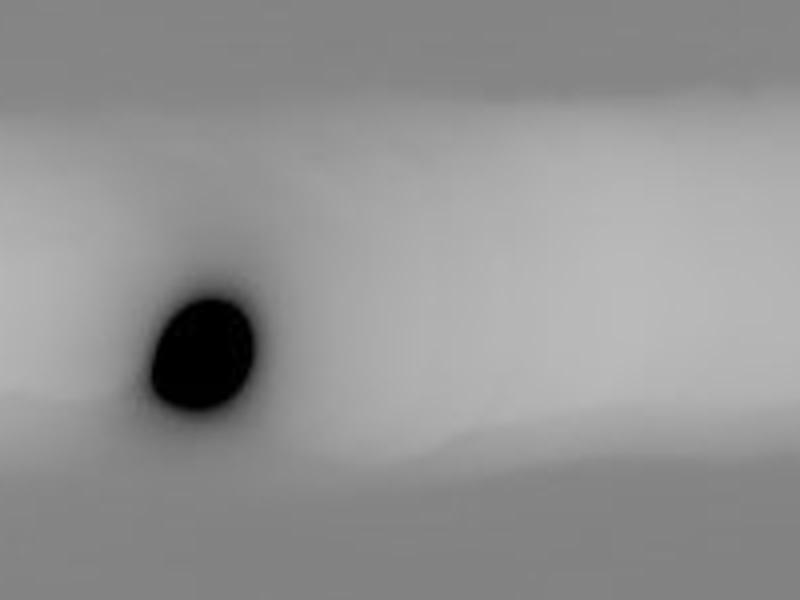defect: (154, 301, 259, 407)
